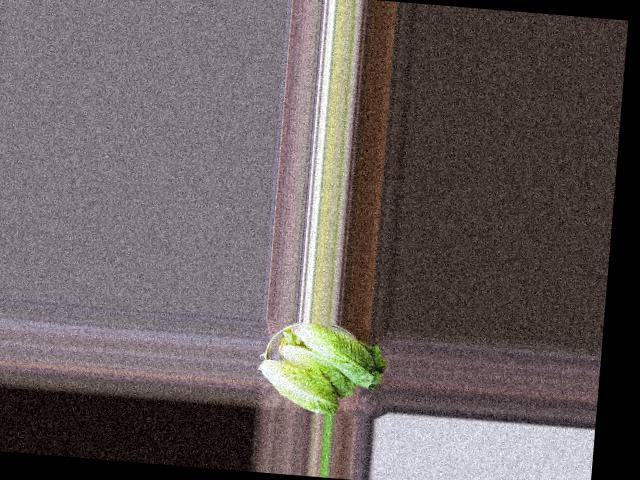lettuce: (279, 320, 386, 391)
